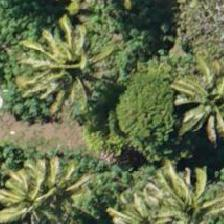coconut_tree: (26, 20, 116, 110), (5, 148, 95, 223), (144, 156, 223, 223), (170, 52, 223, 142)
